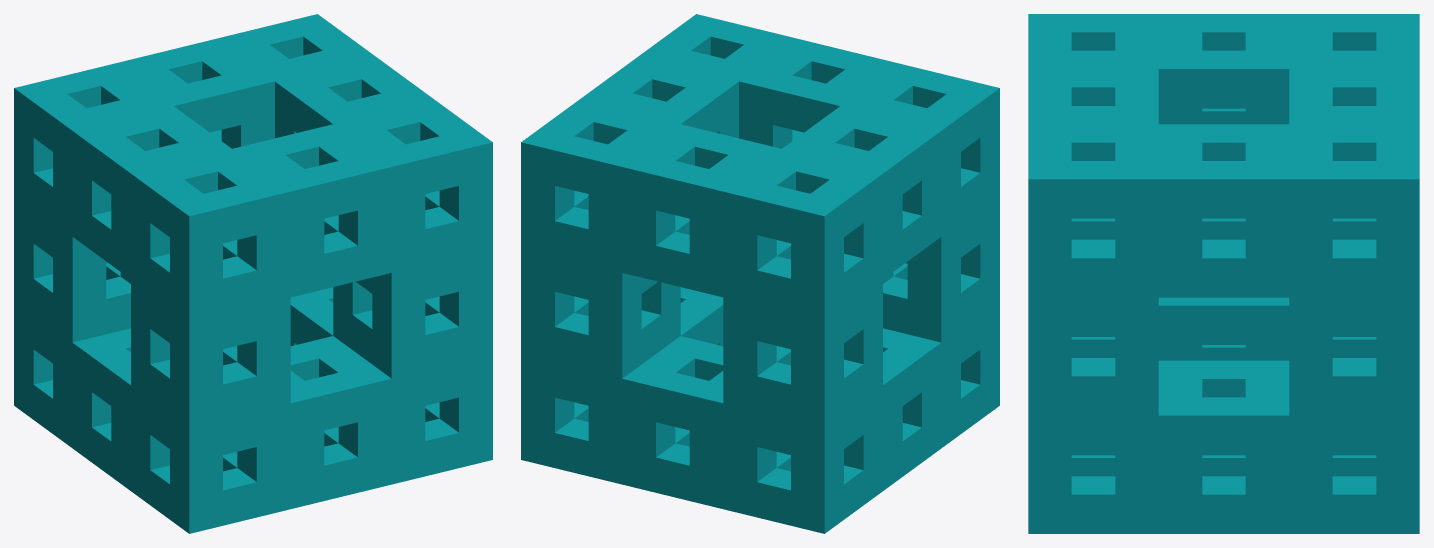
Rendered from fractal.fbx.
The picture shows the model from 3 angles, left to right: view 1: azimuth 30°, elevation 25°; view 2: azimuth 150°, elevation 25°; view 3: azimuth 270°, elevation 25°; orthographic projection. The views are drawn at different scales.
Visible parts, largest first — view 1: Fractal; view 2: Fractal; view 3: Fractal.
Boxes of the visible parts, bbox=[...] form: Fractal: bbox=[14, 14, 492, 533]; Fractal: bbox=[521, 14, 999, 533]; Fractal: bbox=[1028, 14, 1419, 533].
Size of the model in its own units: 0.2 by 0.2 by 0.2.
